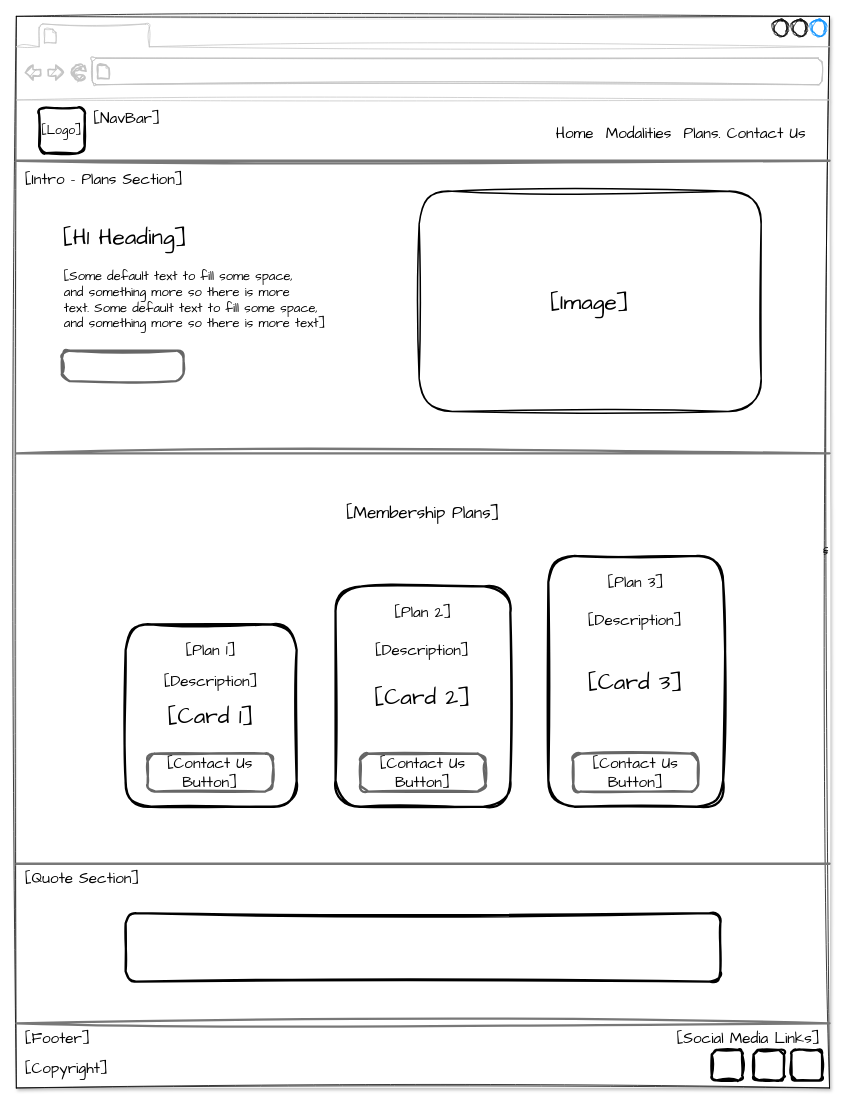
Some shapes in this 847 by 1107 pixel diagram are drawn without their labels. Here are the shapes that lost their labels. From the top down, the centre of each, then its label:
At [103,35]: "Plans".
At [240,71]: "https://www.gotraining.com/plans".
At [122,365]: "[Plans Button]".
At [422,453]: "[Benefits Section]".
At [422,947]: "[Motivational Quote]".
